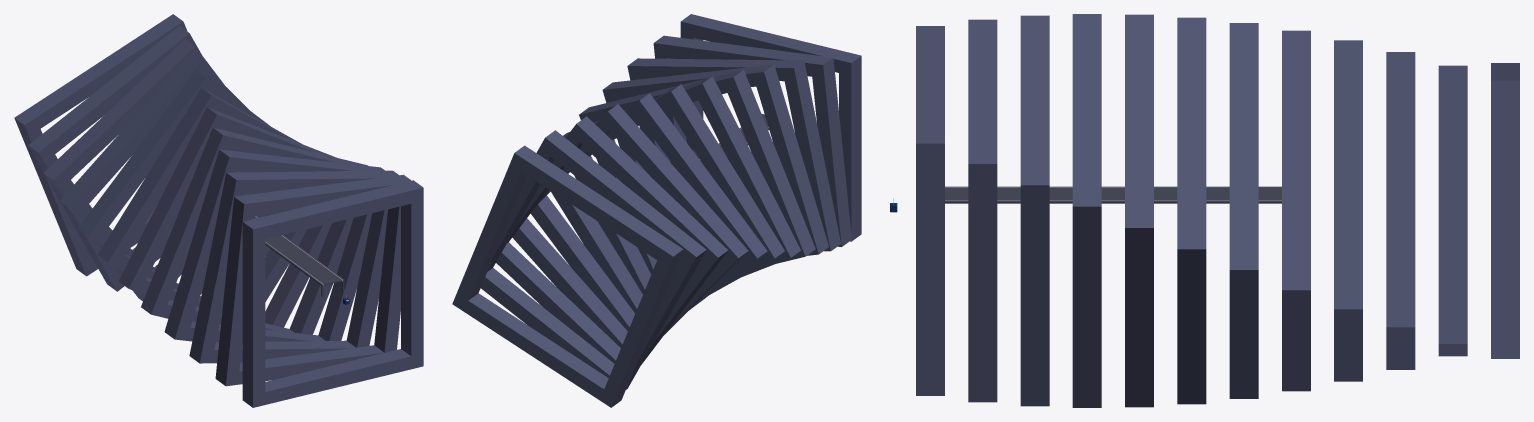
Rendered from beat_saber.gltf.
3 views of the same model, side by side, from view 1: azimuth 30°, elevation 25°; view 2: azimuth 150°, elevation 25°; view 3: azimuth 270°, elevation 25° (orthographic). The views are drawn at different scales.
Parts seen in each view (by area): view 1: Environment, Ramp; view 2: Environment; view 3: Environment, Ramp.
Part boxes in pixels (x1=…): Environment: x1=14, y1=14, x2=423, y2=407; Ramp: x1=255, y1=215, x2=344, y2=296; Environment: x1=452, y1=14, x2=861, y2=407; Environment: x1=916, y1=14, x2=1519, y2=407; Ramp: x1=945, y1=186, x2=1281, y2=203.
Bounding box in the file's own units: 21.45 × 21.45 × 34.29.
4 materials, 3 textured.
